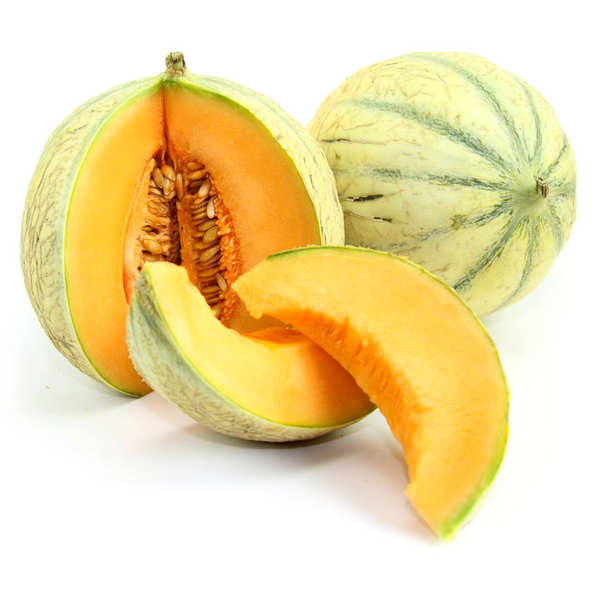Melon: (312, 207, 549, 523), (120, 260, 347, 463)
